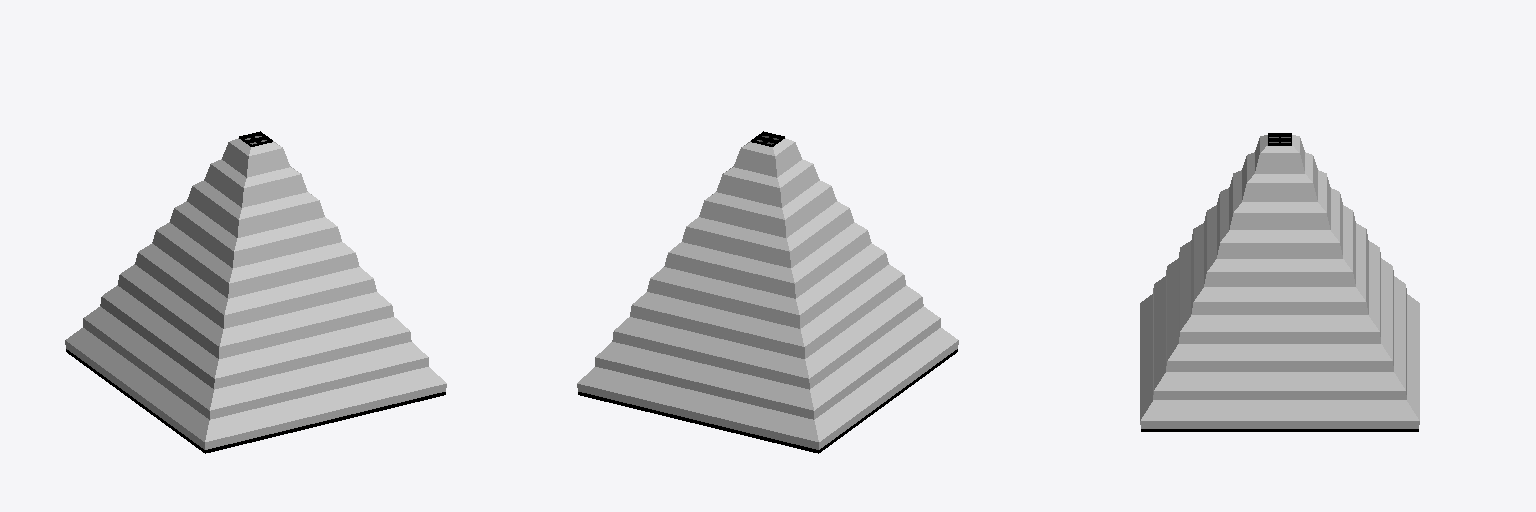
Rendered from Lantern_Pyramid.obj.
The picture shows the model from 3 angles: view 1: azimuth 30°, elevation 25°; view 2: azimuth 150°, elevation 25°; view 3: azimuth 270°, elevation 25°; orthographic projection.
Visible parts, largest first — view 1: Lantern_Cube.007, Bottom_Cube.002; view 2: Lantern_Cube.007, Bottom_Cube.002; view 3: Lantern_Cube.007, Bottom_Cube.002.
Part boxes in pixels (x1,y1,x2,y2): Lantern_Cube.007: (65,136,446,449); Bottom_Cube.002: (66,349,445,453); Lantern_Cube.007: (577,136,958,449); Bottom_Cube.002: (578,349,957,453); Lantern_Cube.007: (1140,135,1419,428); Bottom_Cube.002: (1141,429,1418,431).
Size of the model in its own units: 0.5011 by 0.4655 by 0.5011.